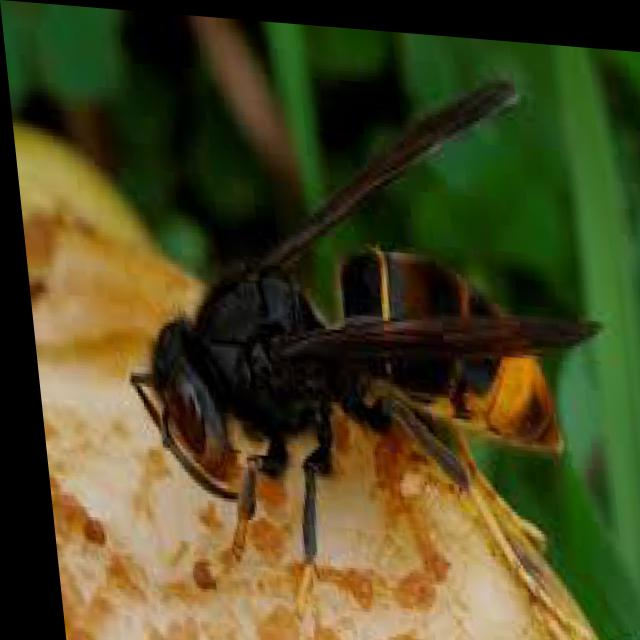Vespa Velutina: (81, 28, 639, 635)
